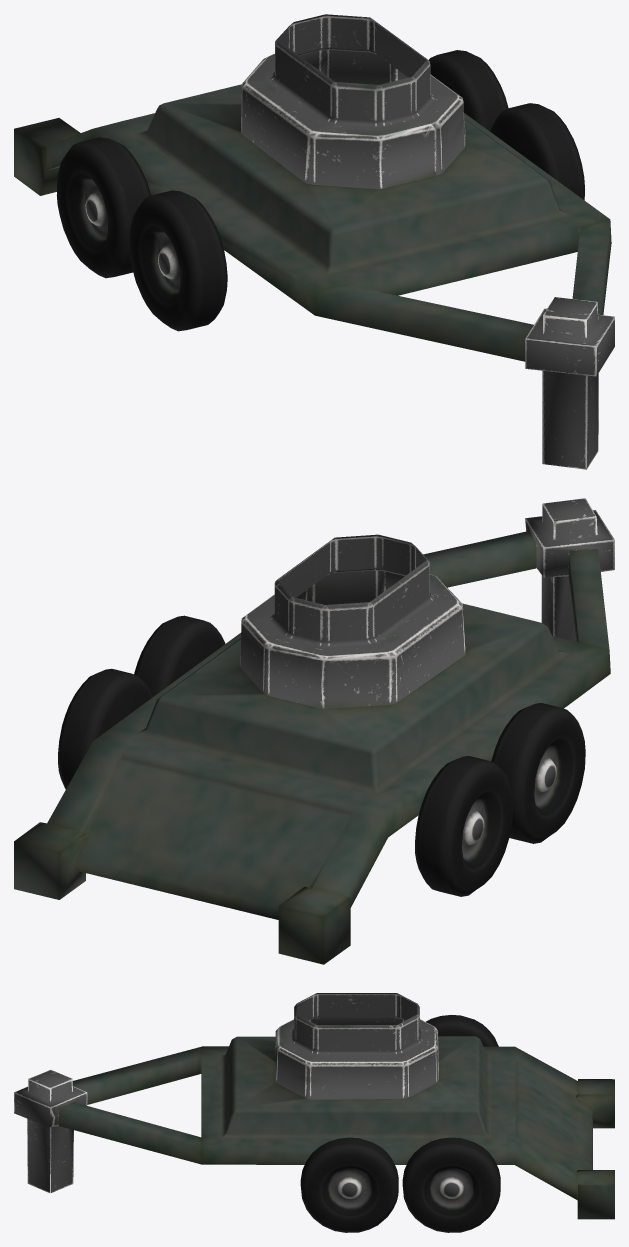
The model's file is AntiCraft_Budy.fbx.
The picture shows the model from 3 angles, top to bottom: view 1: azimuth 30°, elevation 25°; view 2: azimuth 150°, elevation 25°; view 3: azimuth 270°, elevation 25°; orthographic projection. The views are drawn at different scales.
Parts seen in each view (by area): view 1: AntiAircraft_Low2:Mesh2; view 2: AntiAircraft_Low2:Mesh2; view 3: AntiAircraft_Low2:Mesh2.
Boxes of the visible parts, <box> form: AntiAircraft_Low2:Mesh2: <box>14,14,614,469</box>; AntiAircraft_Low2:Mesh2: <box>14,498,614,964</box>; AntiAircraft_Low2:Mesh2: <box>14,993,614,1232</box>.
Bounding box in the file's own units: 2.66 × 1.6 × 4.99.
Materials: 1 (1 with a texture image).
